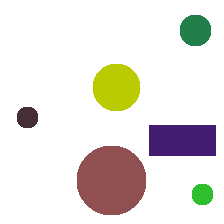circle: (77, 146, 145, 214), (93, 64, 139, 110), (180, 15, 210, 45), (192, 184, 212, 204), (17, 107, 37, 127)
rectangle: (149, 125, 215, 155)
